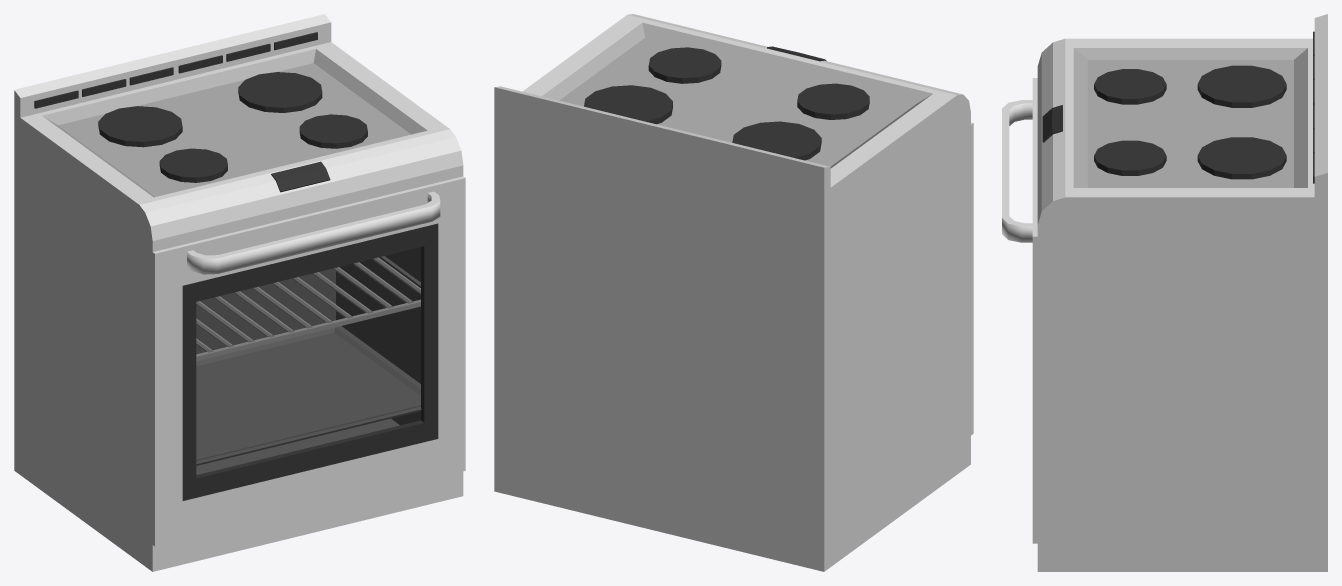
The model's file is oven.glb.
3 views of the same model, side by side, from view 1: azimuth 30°, elevation 25°; view 2: azimuth 150°, elevation 25°; view 3: azimuth 270°, elevation 25° (orthographic). The views are drawn at different scales.
Visible parts, largest first — view 1: Oven, Oven Door, Oven Stray, Oven Grill Stray; view 2: Oven, Oven Door; view 3: Oven, Oven Door.
Part boxes in pixels (bbox=[...]): Oven: bbox=[14, 14, 463, 571]; Oven Door: bbox=[151, 176, 465, 546]; Oven Stray: bbox=[196, 326, 421, 465]; Oven Grill Stray: bbox=[196, 257, 420, 361]; Oven: bbox=[494, 14, 970, 571]; Oven Door: bbox=[970, 122, 973, 435]; Oven: bbox=[1037, 14, 1327, 571]; Oven Door: bbox=[1002, 78, 1039, 543].
Bounding box in the file's own units: 0.8636 × 1.01 × 0.7479.
4 materials, 4 textured.
